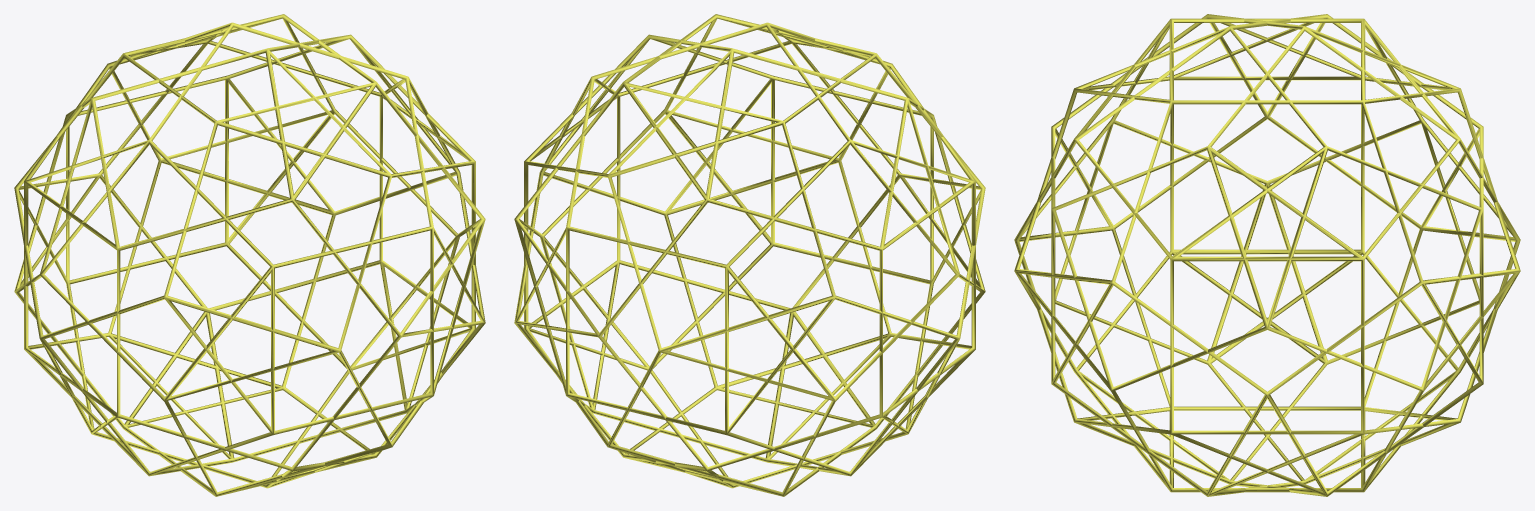
The model's file is Rhombidodecadodecahedron1.glb.
The picture shows the model from 3 angles, left to right: view 1: azimuth 30°, elevation 25°; view 2: azimuth 150°, elevation 25°; view 3: azimuth 270°, elevation 25°; orthographic projection. The views are drawn at different scales.
Parts seen in each view (by area): view 1: Rhombidodecadodecahedron; view 2: Rhombidodecadodecahedron; view 3: Rhombidodecadodecahedron.
Part boxes in pixels (x1,y1,x2,y2): Rhombidodecadodecahedron: [14, 14, 485, 496]; Rhombidodecadodecahedron: [514, 14, 985, 496]; Rhombidodecadodecahedron: [1014, 14, 1520, 496].
Size of the model in its own units: 2.64 by 2.64 by 2.64.
